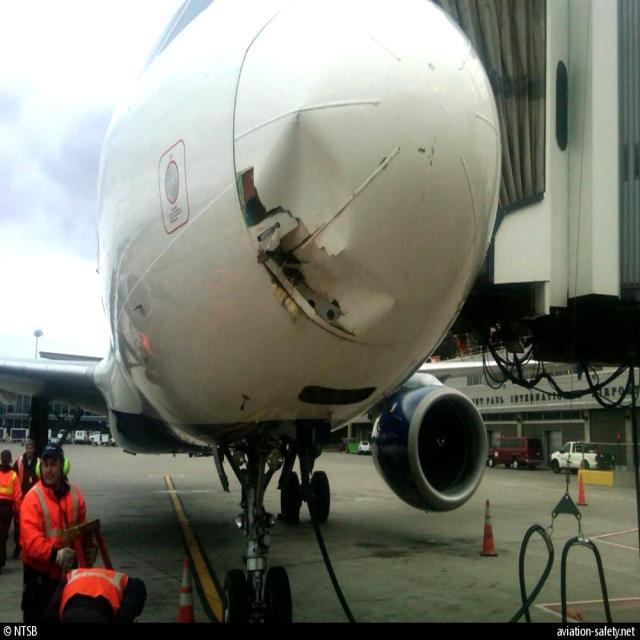dent: (274, 117, 353, 246), (324, 258, 401, 324)
